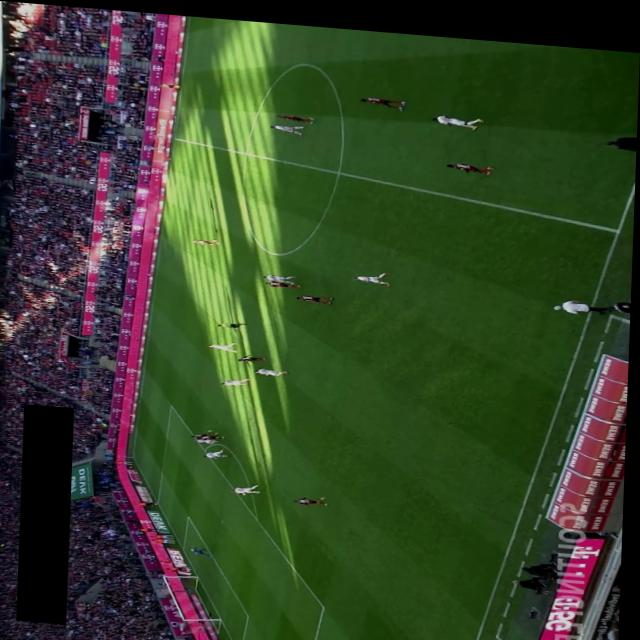goalkeeper: (192, 542, 216, 553)
player: (431, 106, 486, 123), (360, 89, 407, 104), (447, 153, 496, 167), (355, 262, 393, 280), (264, 267, 301, 280), (271, 117, 305, 130), (297, 488, 331, 500), (234, 477, 265, 490), (297, 288, 336, 298), (277, 108, 315, 118), (223, 371, 254, 383), (209, 336, 240, 348), (194, 424, 224, 436), (206, 443, 233, 455), (257, 363, 291, 372), (267, 275, 303, 283), (240, 349, 270, 358), (203, 428, 229, 437), (193, 234, 222, 242), (200, 432, 224, 441)
referee: (219, 317, 249, 325), (159, 78, 182, 86)
